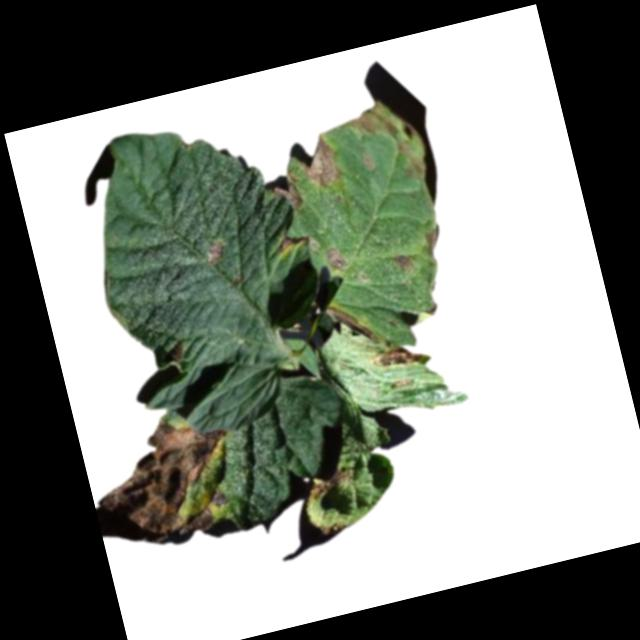Early_blight: (82, 407, 250, 553), (297, 131, 345, 192), (326, 295, 376, 349), (303, 466, 358, 504), (370, 340, 425, 375), (267, 168, 306, 217), (420, 224, 445, 259), (201, 239, 228, 269), (322, 247, 346, 273), (279, 233, 308, 254), (319, 518, 349, 537), (393, 251, 414, 275), (166, 342, 186, 366)
